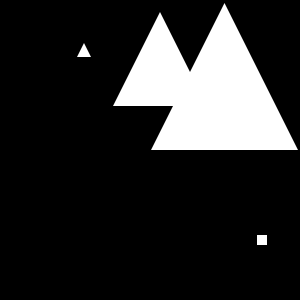circle: (257, 235, 267, 245)
triangle: (151, 3, 298, 150), (113, 12, 207, 106), (77, 43, 91, 57)
